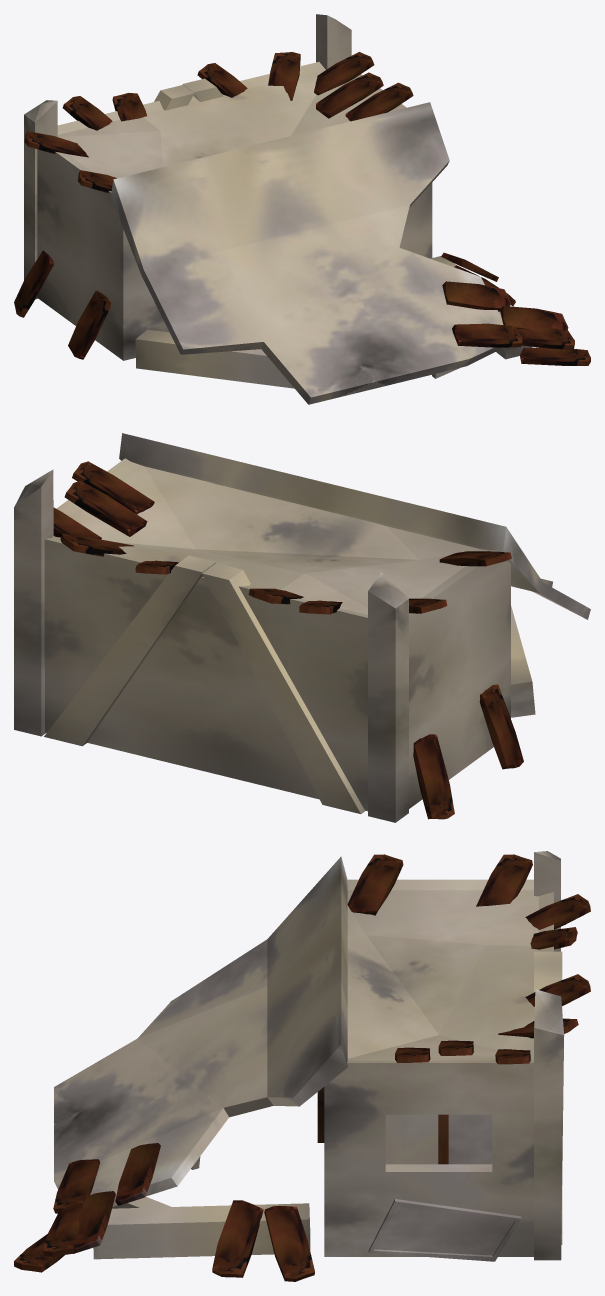
Rendered from casa3.fbx.
3 views of the same model, one above another, from view 1: azimuth 30°, elevation 25°; view 2: azimuth 150°, elevation 25°; view 3: azimuth 270°, elevation 25° (orthographic). The views are drawn at different scales.
Visible parts, largest first — view 1: LOD_0; view 2: LOD_0; view 3: LOD_0.
Part boxes in pixels (x1=…): LOD_0: x1=14, y1=14, x2=590, y2=404; LOD_0: x1=14, y1=433, x2=590, y2=822; LOD_0: x1=14, y1=851, x2=590, y2=1281.
Size of what is drawn, in the model's own units: 232 by 124 by 245.
